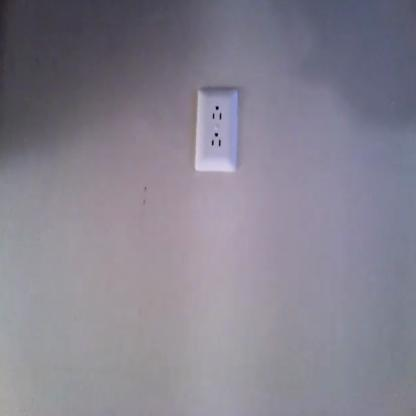OUTLET: (194, 88, 238, 172)
